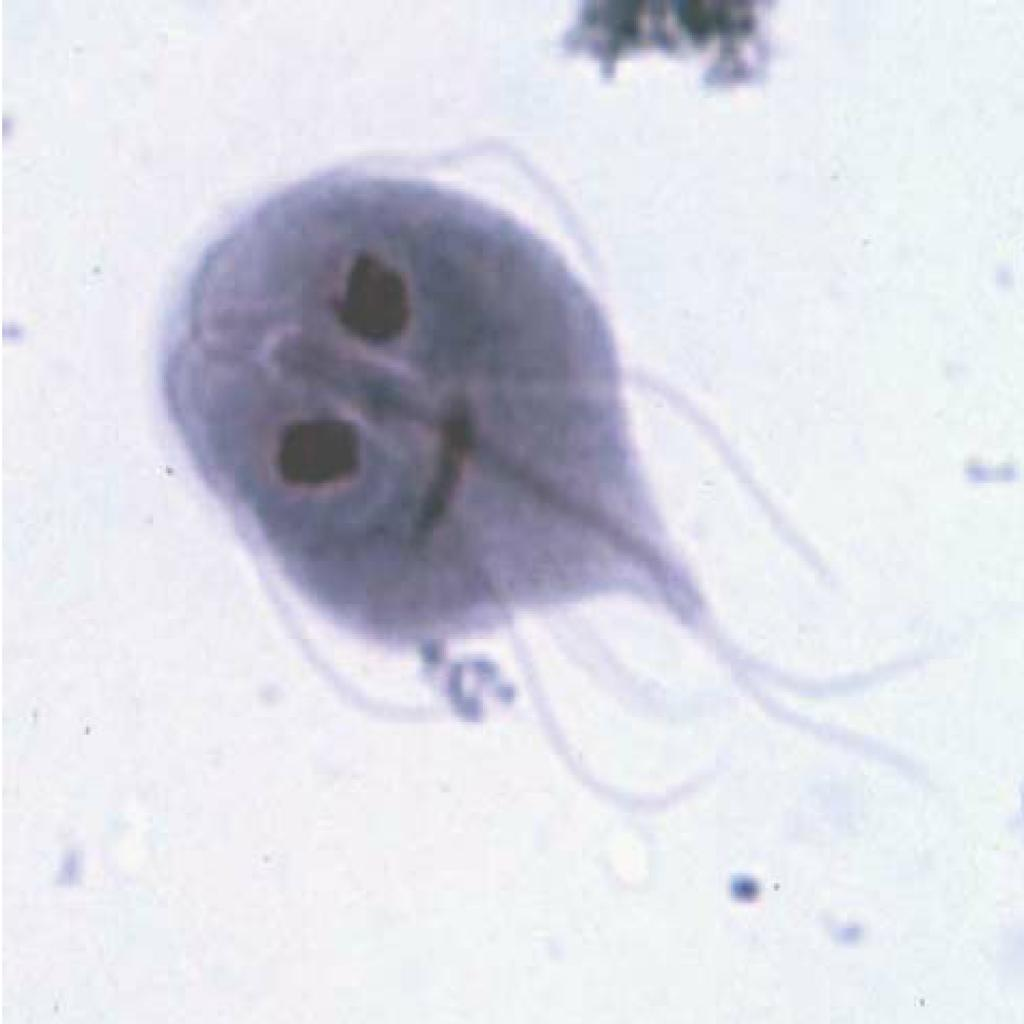Giardia: (140, 126, 962, 858)
